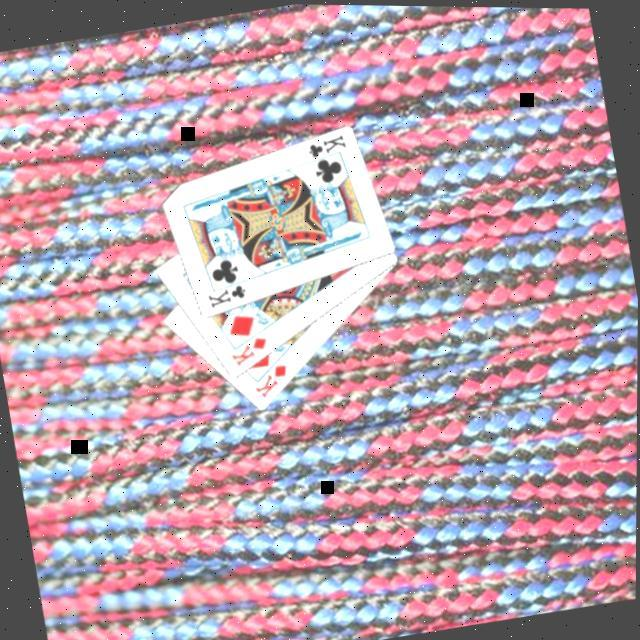KC: (298, 130, 350, 168), (202, 276, 252, 314)
KD: (247, 361, 293, 404), (224, 332, 272, 372)
